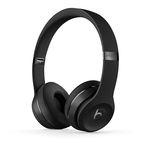headphones: (29, 6, 121, 134)
